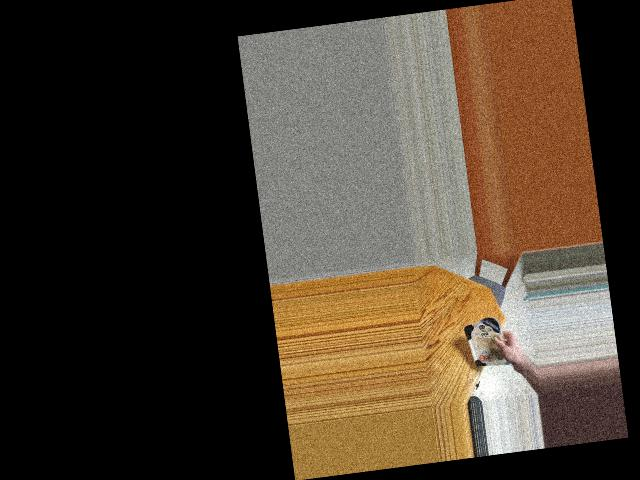cheese: (462, 314, 513, 371)
